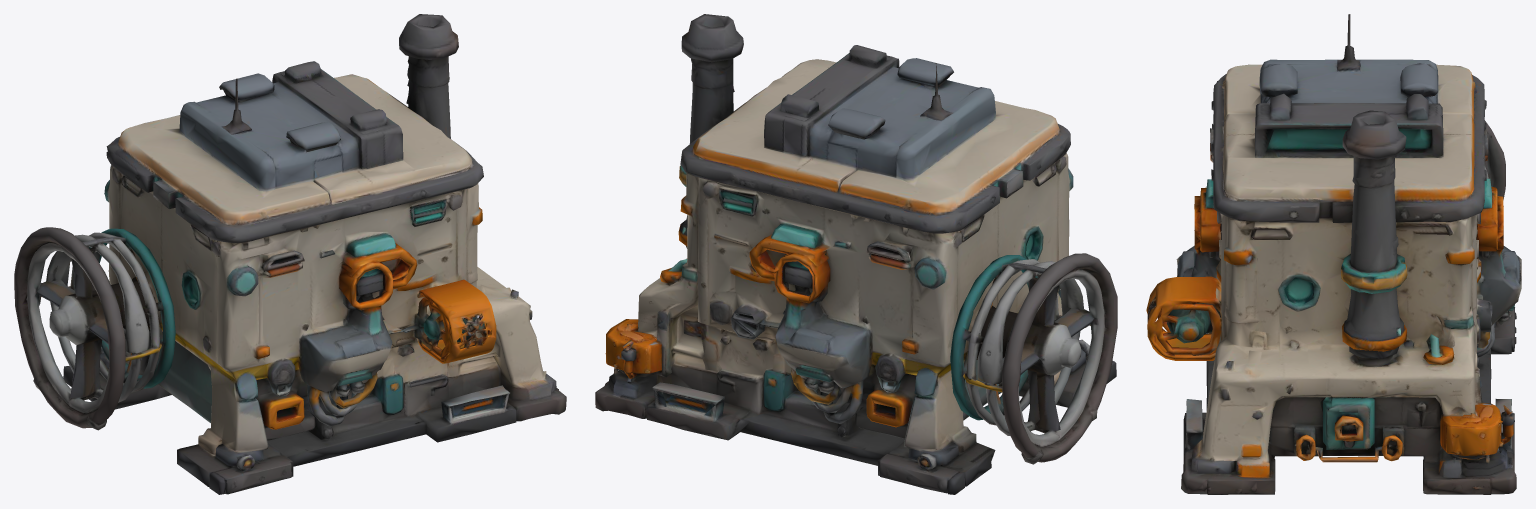
The model's file is generateur.glb.
3 views of the same model, side by side, from view 1: azimuth 30°, elevation 25°; view 2: azimuth 150°, elevation 25°; view 3: azimuth 270°, elevation 25° (orthographic). The views are drawn at different scales.
Visible parts, largest first — view 1: tripo_node_c6f7119d-937c-4b8e-8f0b-52431d263d1c; view 2: tripo_node_c6f7119d-937c-4b8e-8f0b-52431d263d1c; view 3: tripo_node_c6f7119d-937c-4b8e-8f0b-52431d263d1c.
Part boxes in pixels (x1,y1,x2,y2): tripo_node_c6f7119d-937c-4b8e-8f0b-52431d263d1c: [14, 14, 566, 494]; tripo_node_c6f7119d-937c-4b8e-8f0b-52431d263d1c: [595, 14, 1117, 494]; tripo_node_c6f7119d-937c-4b8e-8f0b-52431d263d1c: [1146, 14, 1521, 494].
Bounding box in the file's own units: 1 × 0.7702 × 0.7458.
Materials: 1 (1 with a texture image).
